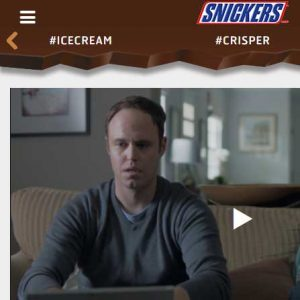snickers: (199, 1, 282, 21), (201, 1, 282, 21)
